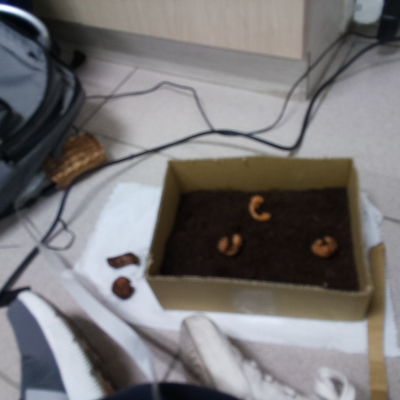eggs: (243, 189, 275, 226), (211, 229, 246, 260), (309, 233, 340, 261)
